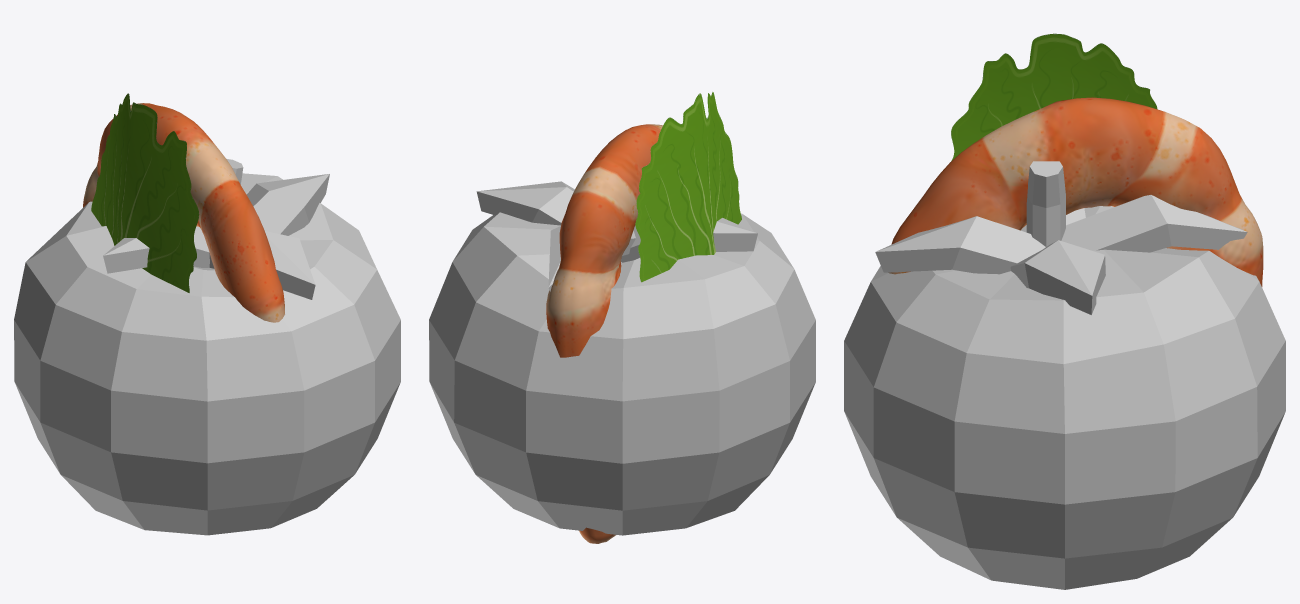
Rendered from asset_aceh.fbx.
3 views of the same model, side by side, from view 1: azimuth 30°, elevation 25°; view 2: azimuth 150°, elevation 25°; view 3: azimuth 270°, elevation 25° (orthographic). The views are drawn at different scales.
Visible parts, largest first — view 1: tomat, selada, udang; view 2: tomat, udang, selada; view 3: tomat, udang, selada.
Part boxes in pixels (x1,y1,x2,y2): tomat: (14,159,400,535); selada: (91,93,199,292); udang: (83,103,284,322); tomat: (429,181,815,535); udang: (546,124,662,543); selada: (635,92,741,282); tomat: (844,161,1285,589); udang: (888,97,1263,286); selada: (951,33,1157,161).
Bounding box in the file's own units: 1.38 × 1.81 × 1.38.
